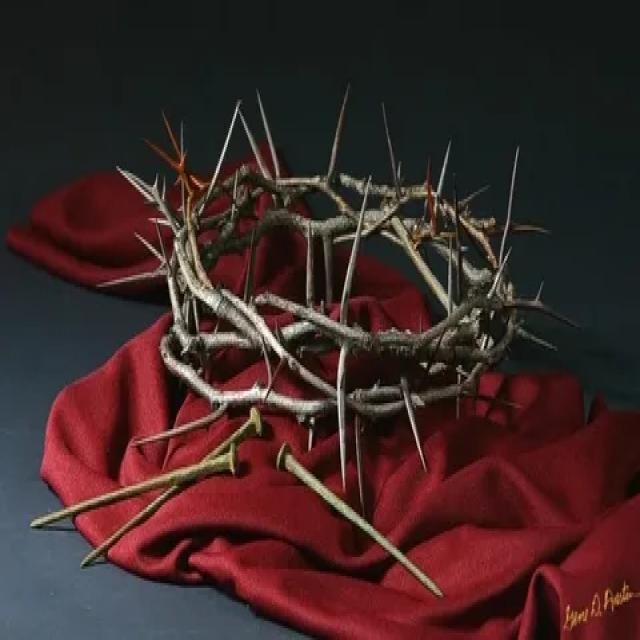crown: (149, 122, 536, 420)
